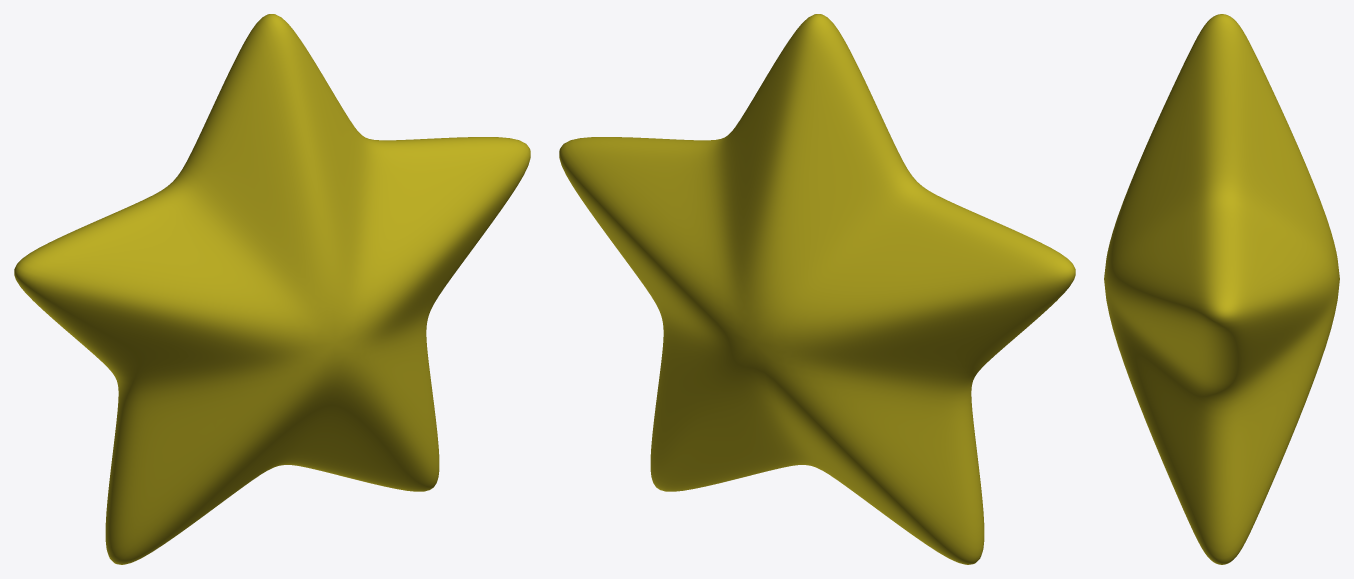
The model's file is starfin.glb.
3 views of the same model, side by side, from view 1: azimuth 30°, elevation 25°; view 2: azimuth 150°, elevation 25°; view 3: azimuth 270°, elevation 25° (orthographic). The views are drawn at different scales.
Parts seen in each view (by area): view 1: Star; view 2: Star; view 3: Star.
Boxes of the visible parts, x1,y1,x2,y2 form: Star: [14, 14, 530, 564]; Star: [559, 14, 1075, 564]; Star: [1104, 14, 1339, 564].
Size of the model in its own units: 1.98 by 1.89 by 0.841.
